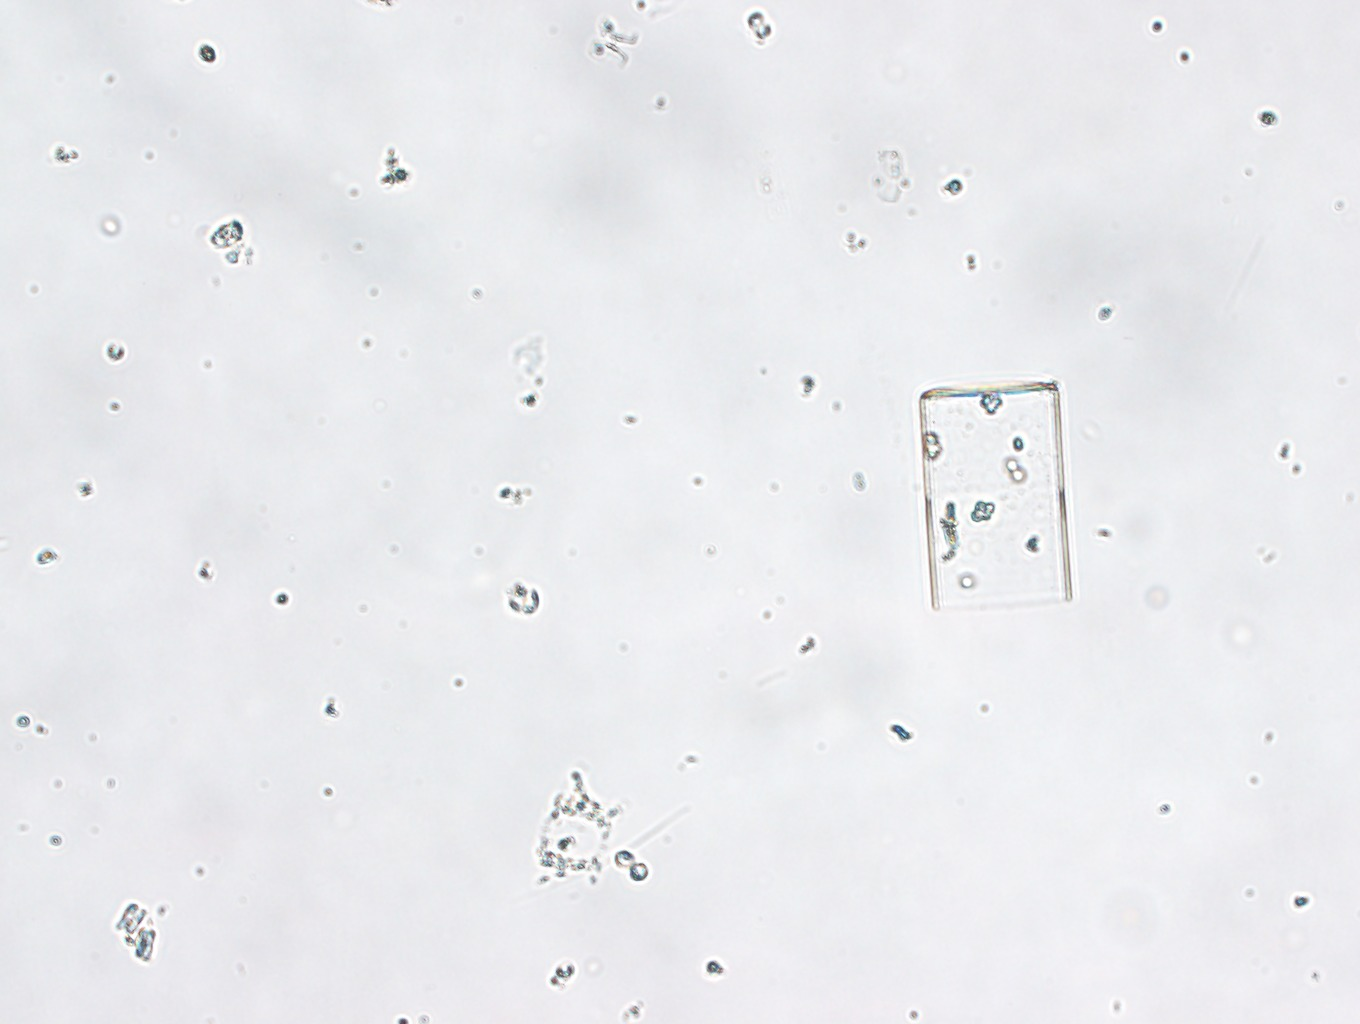guinardia flaccida: (919, 381, 1074, 614)
